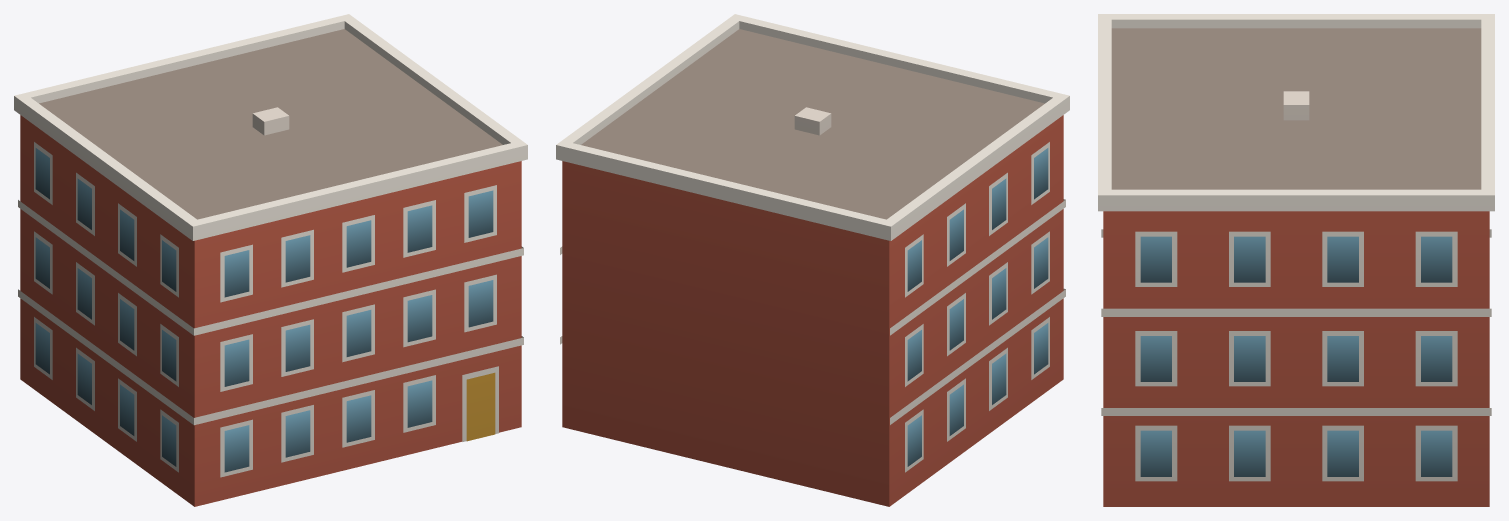
Rendered from vee_rightbb0_far.glb.
3 renders of one model, left to right at view 1: azimuth 30°, elevation 25°; view 2: azimuth 150°, elevation 25°; view 3: azimuth 270°, elevation 25°, orthographic. The views are drawn at different scales.
Parts seen in each view (by area): view 1: vee_rightbb0_far; view 2: vee_rightbb0_far; view 3: vee_rightbb0_far.
Boxes of the visible parts, x1,y1,x2,y2 form: vee_rightbb0_far: [14, 14, 527, 506]; vee_rightbb0_far: [556, 14, 1069, 506]; vee_rightbb0_far: [1098, 14, 1494, 506].
Size of the model in its own units: 13.32 by 10.97 by 12.32.
1 material, 1 textured.
